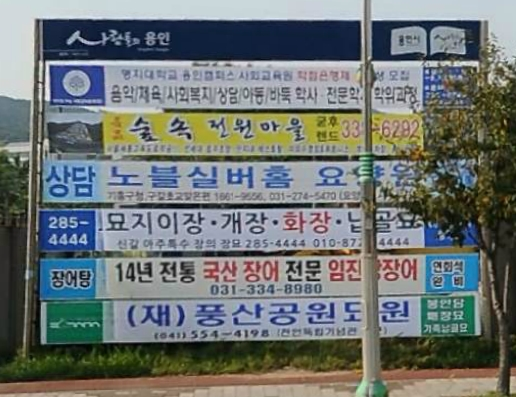banner: (31, 103, 498, 164), (25, 153, 497, 209), (33, 59, 490, 116), (17, 242, 492, 293), (20, 298, 497, 345), (24, 206, 493, 249)
